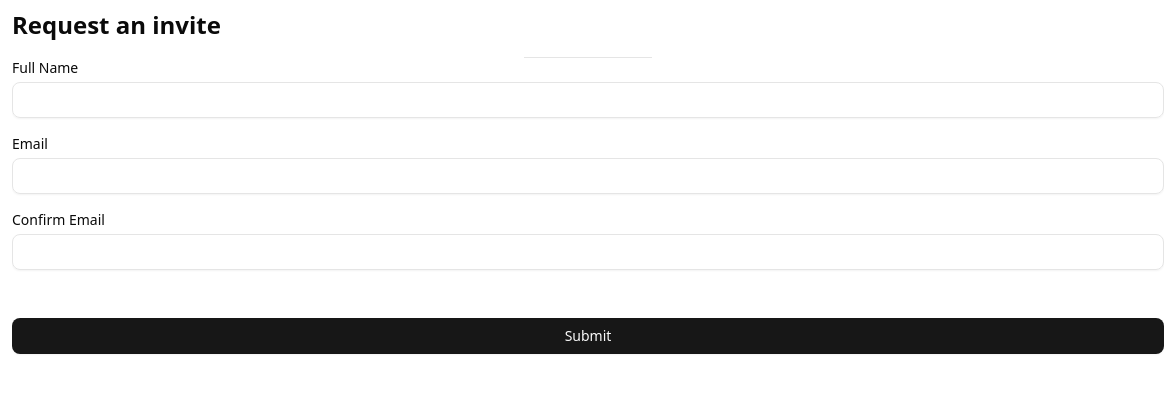
Test case: EnterDetailsForm › displays API error message if api returns an expected error
# Fill form with data that will trigger API error
Type "Jane Doe" into the field labelled "Full Name" at (588, 100), box [12,82,1164,118]
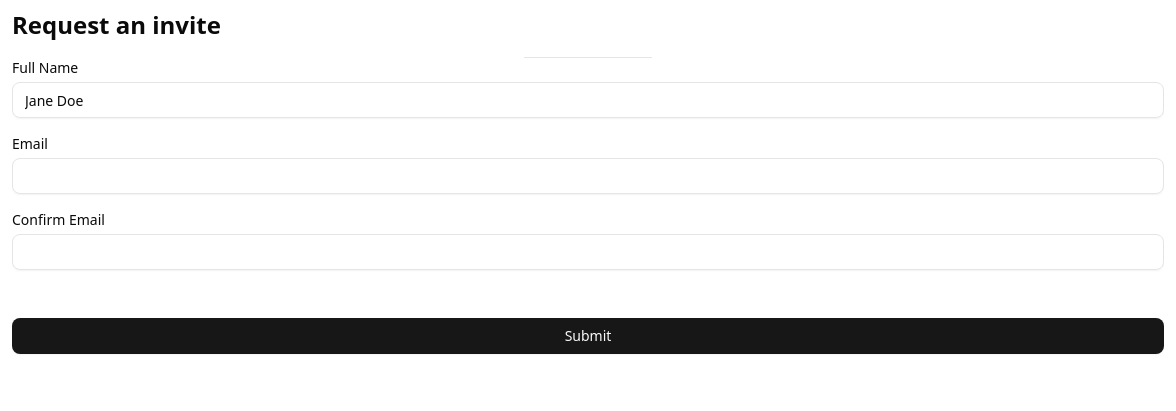
Type "error@example.com" into the field labelled "Email" at (588, 176), box [12,158,1164,194]
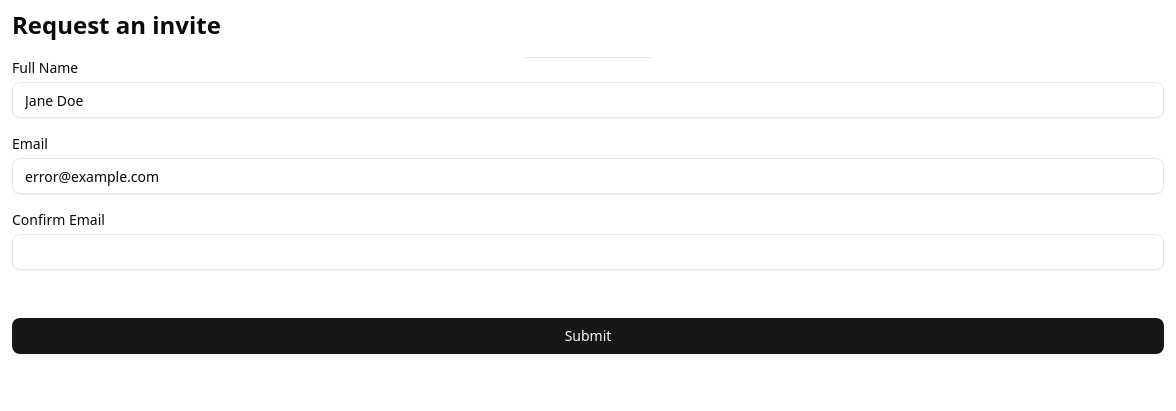
Type "error@example.com" into the field labelled "Confirm Email" at (588, 252), box [12,234,1164,270]
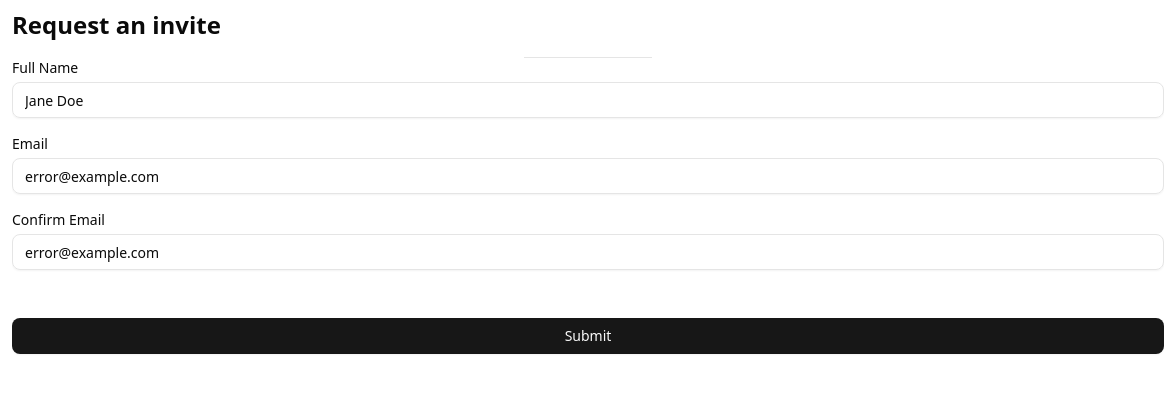
Click the button "Submit" at (588, 336), box [12,318,1164,354]
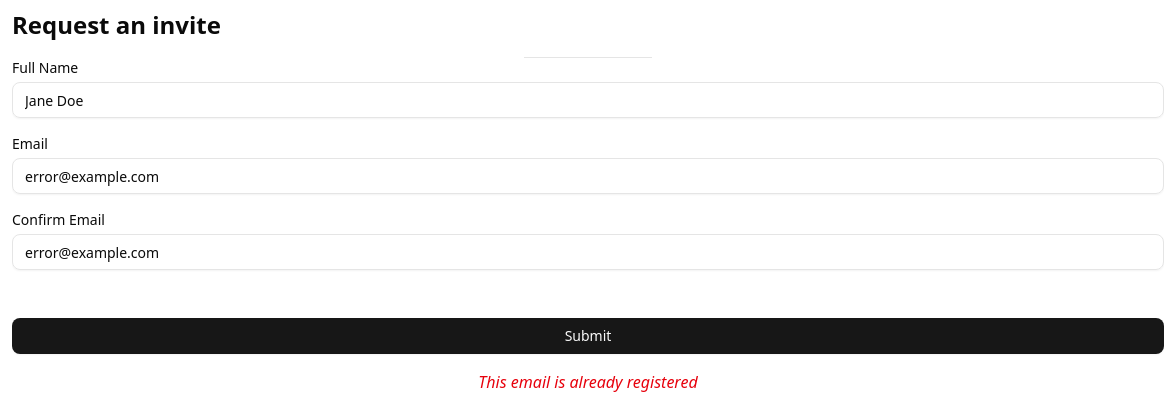
Result: the text "This email is already registered" is shown at [478,370,698,394]
